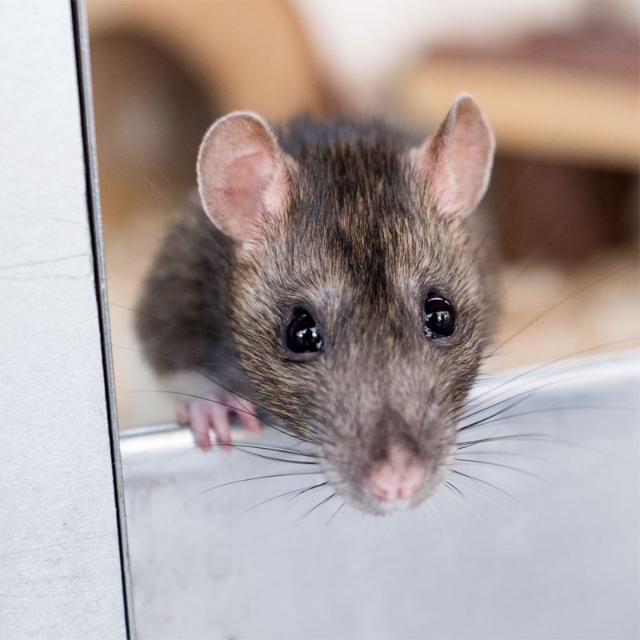rat: (116, 84, 528, 528)
